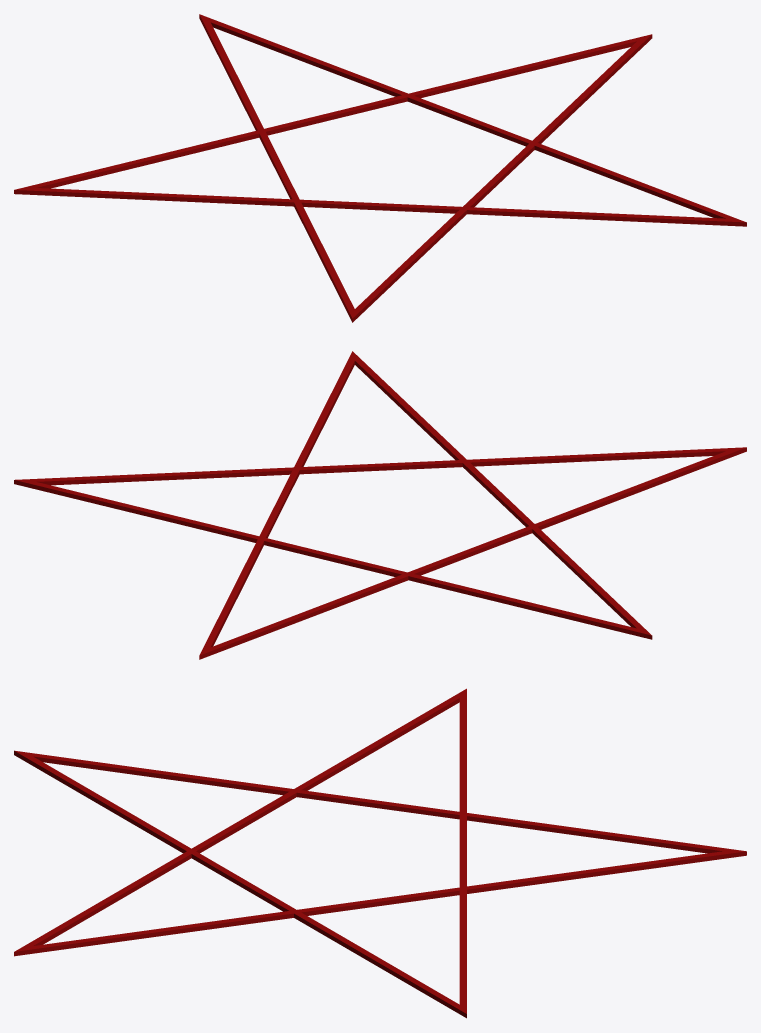
Rendered from pentagram .fbx.
The picture shows the model from 3 angles, top to bottom: view 1: azimuth 30°, elevation 25°; view 2: azimuth 150°, elevation 25°; view 3: azimuth 270°, elevation 25°; orthographic projection. The views are drawn at different scales.
Visible parts, largest first — view 1: pentagram; view 2: pentagram; view 3: pentagram.
Boxes of the visible parts, box(x1,y1,x2,y2) form: pentagram: box(14, 14, 746, 322); pentagram: box(14, 351, 746, 659); pentagram: box(14, 688, 746, 1018).
Bounding box in the file's own units: 190 × 1.2 × 181.
